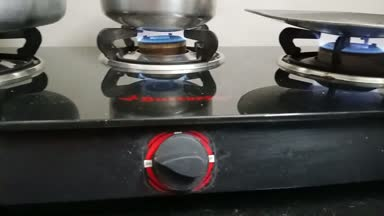flame_gas_on: (106, 20, 225, 192), (284, 25, 384, 79)
